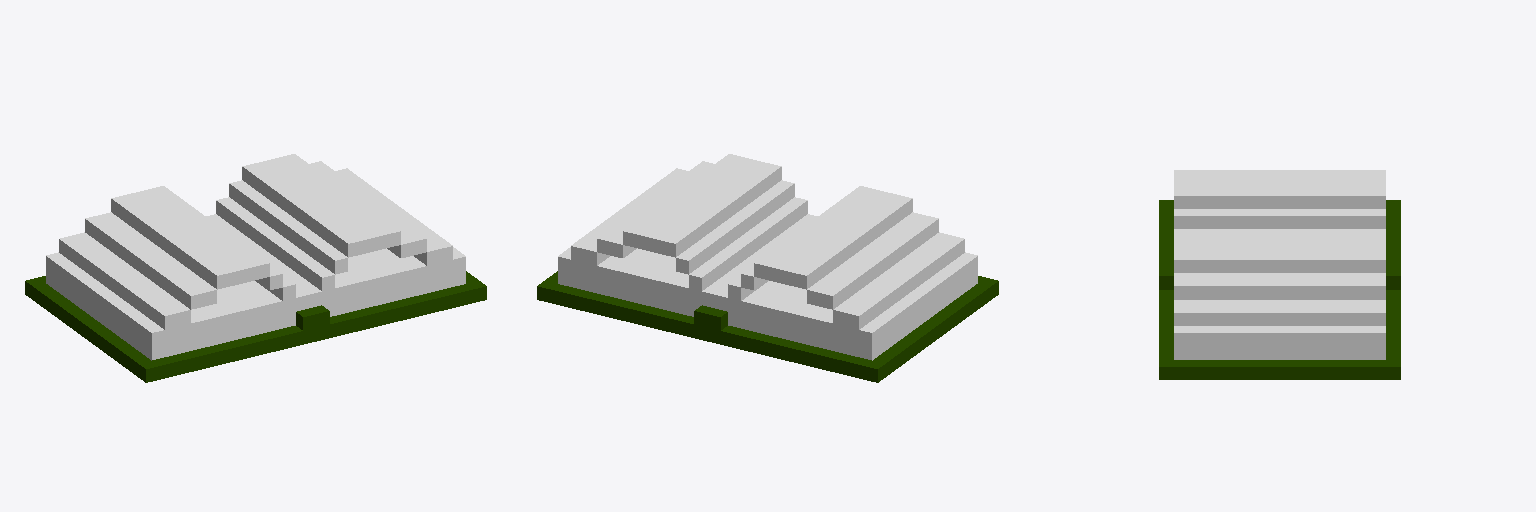
3 views of the same model, side by side, from view 1: azimuth 30°, elevation 25°; view 2: azimuth 150°, elevation 25°; view 3: azimuth 270°, elevation 25° (orthographic).
Visible parts, largest first — view 1: object 1; view 2: object 1; view 3: object 1.
Part boxes in pixels (x1,y1,x2,y2): object 1: (25,154,486,382); object 1: (537,154,998,382); object 1: (1159,170,1400,379).
Size of the model in its own units: 2.6 by 0.6 by 1.6.
Materials: 1 (1 with a texture image).